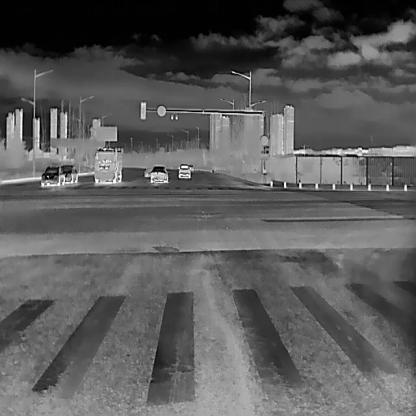car: (40, 164, 64, 185), (59, 164, 77, 183), (150, 164, 167, 183), (177, 162, 190, 178), (188, 162, 193, 170)
truck: (93, 147, 123, 184)
